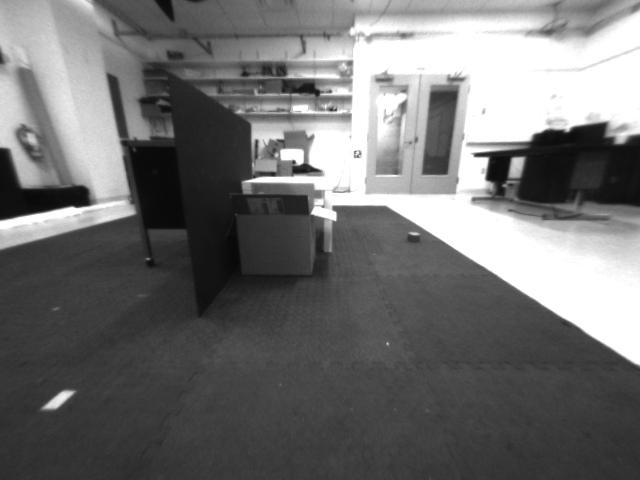dogtoy: (392, 224, 434, 253)
